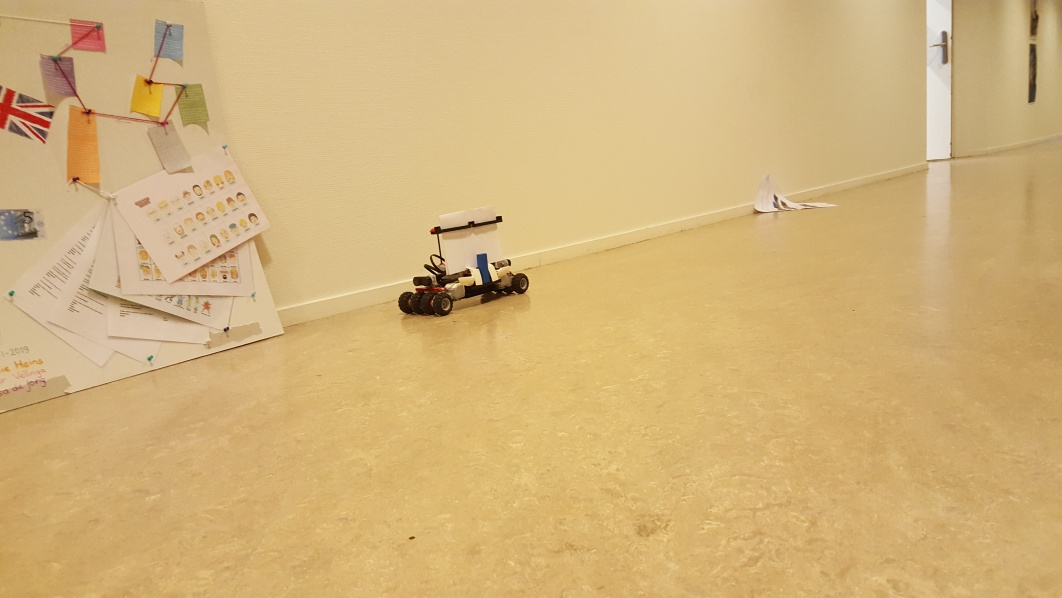beam: (473, 254, 492, 281)
